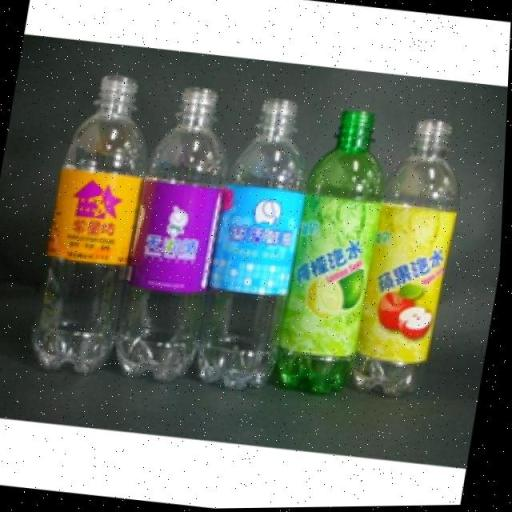plastic: (24, 63, 476, 417), (28, 67, 160, 376), (111, 80, 243, 386), (192, 91, 322, 395), (274, 102, 398, 398), (351, 112, 473, 402)
